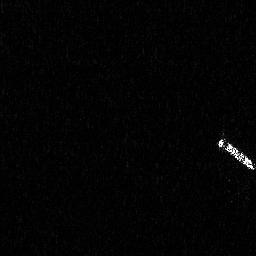ship: (215, 132, 256, 174)
